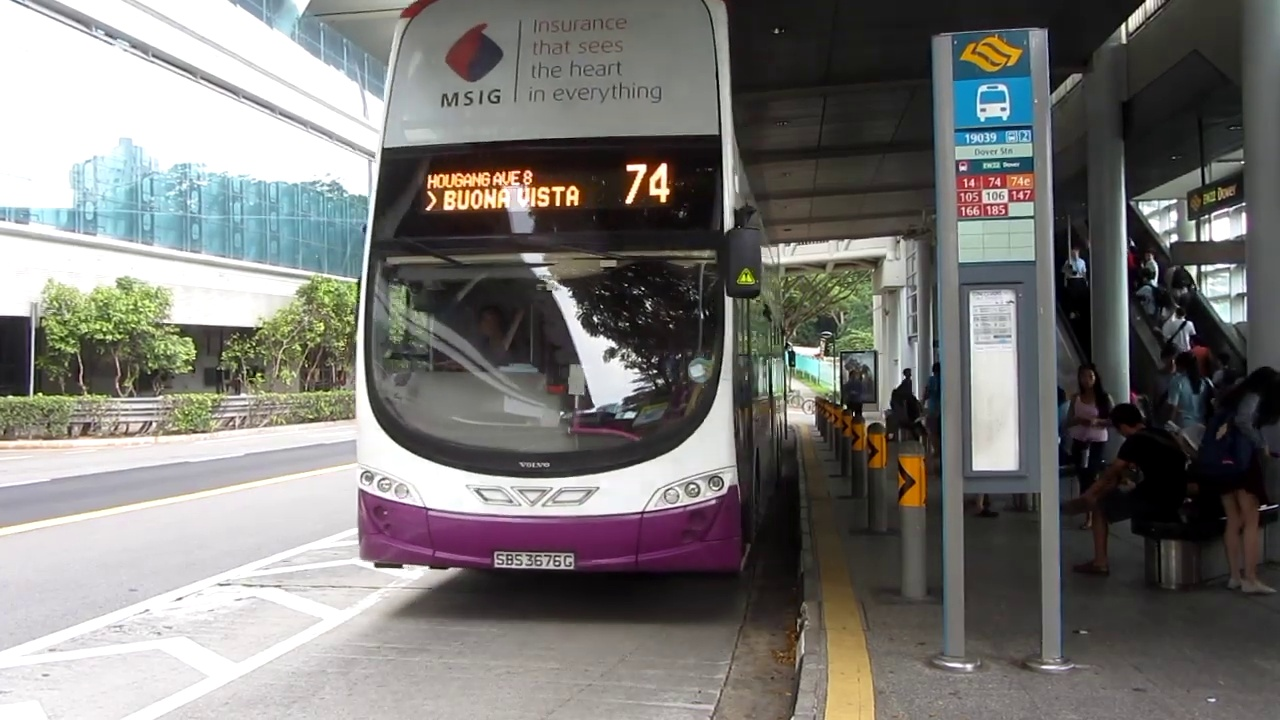bus panel: (417, 158, 675, 218)
